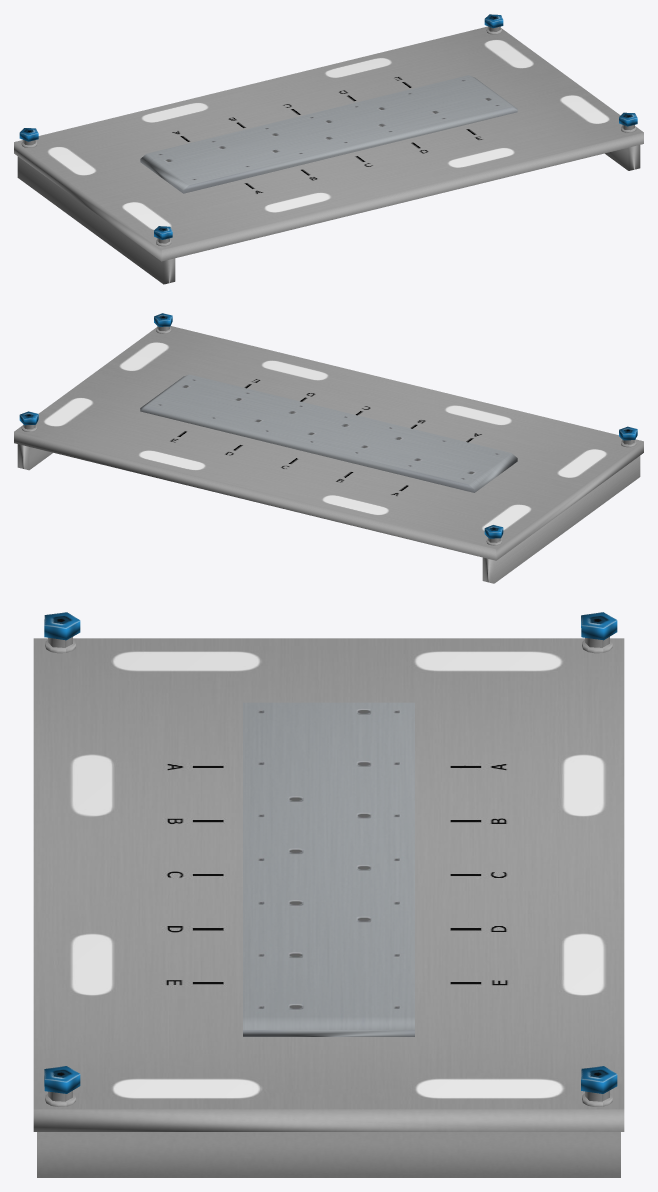
File: Stanchion_Baseplate.dae
3 renders of one model, top to bottom at view 1: azimuth 30°, elevation 25°; view 2: azimuth 150°, elevation 25°; view 3: azimuth 270°, elevation 25°, orthographic. The views are drawn at different scales.
Visible parts, largest first — view 1: Mesh; view 2: Mesh; view 3: Mesh.
Part boxes in pixels (x1,y1,x2,y2): Mesh: (14,14,643,284); Mesh: (14,313,643,583); Mesh: (33,612,624,1177).
Size of the model in its own units: 1.05 by 0.1026 by 0.5588.
Materials: 4 (4 with a texture image).
